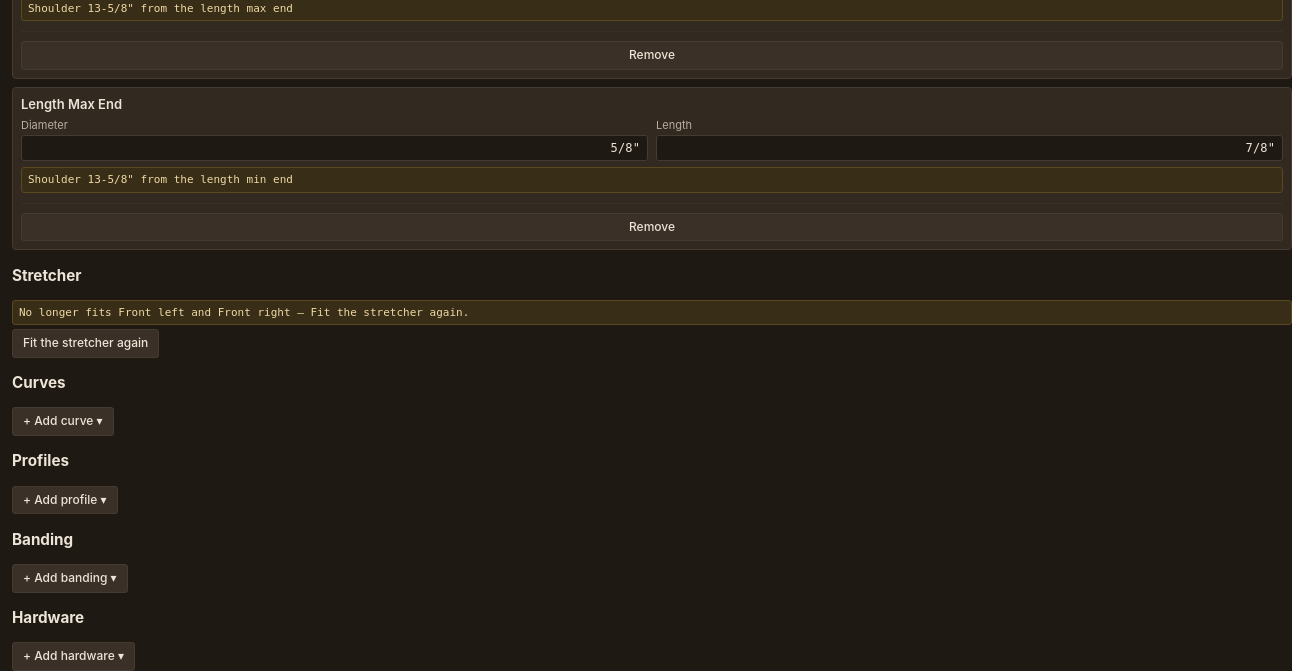
Scenario: the rung's readout (stretchers spec §4) › a refused Fit shows the store's sentence as an alert
(page scrolled)
Click the button "Fit the stretcher again" at (86, 344), box [12,329,159,358]
(page scrolled)
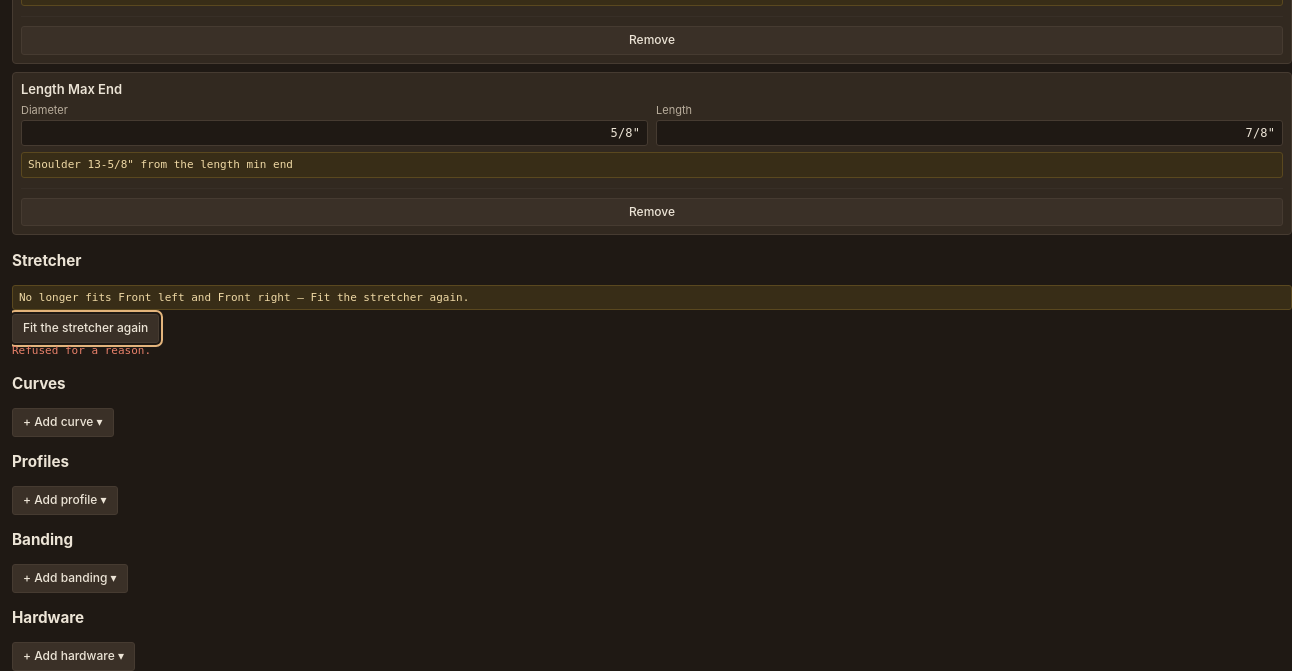
Expected: the message "Refused for a reason." is shown, [12,344,151,357]
